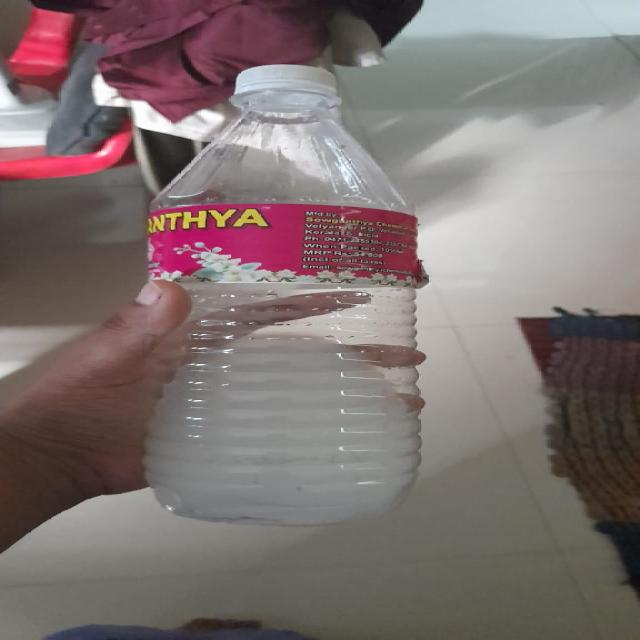Plastic - Recyclable: (139, 64, 430, 526)
